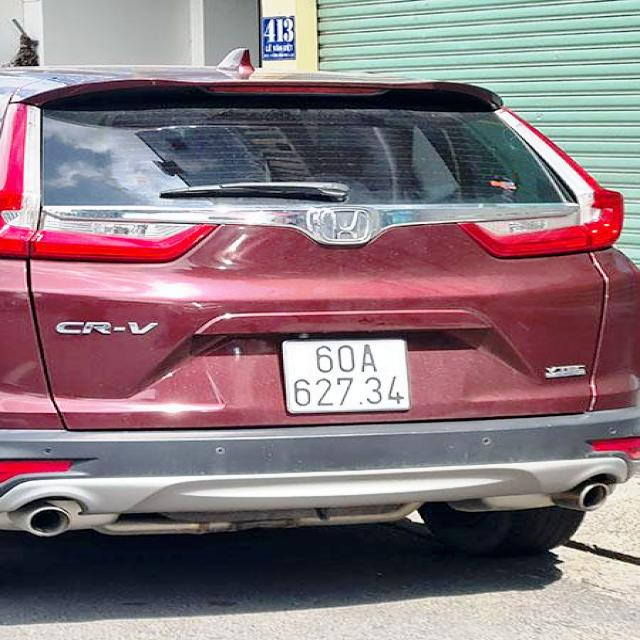license_plate: (283, 339, 412, 412)
